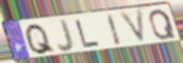I: (106, 13, 124, 47)
J: (56, 19, 76, 54)
L: (74, 18, 102, 50)
Q: (23, 23, 57, 56), (148, 8, 178, 42)
V: (118, 8, 148, 46)
